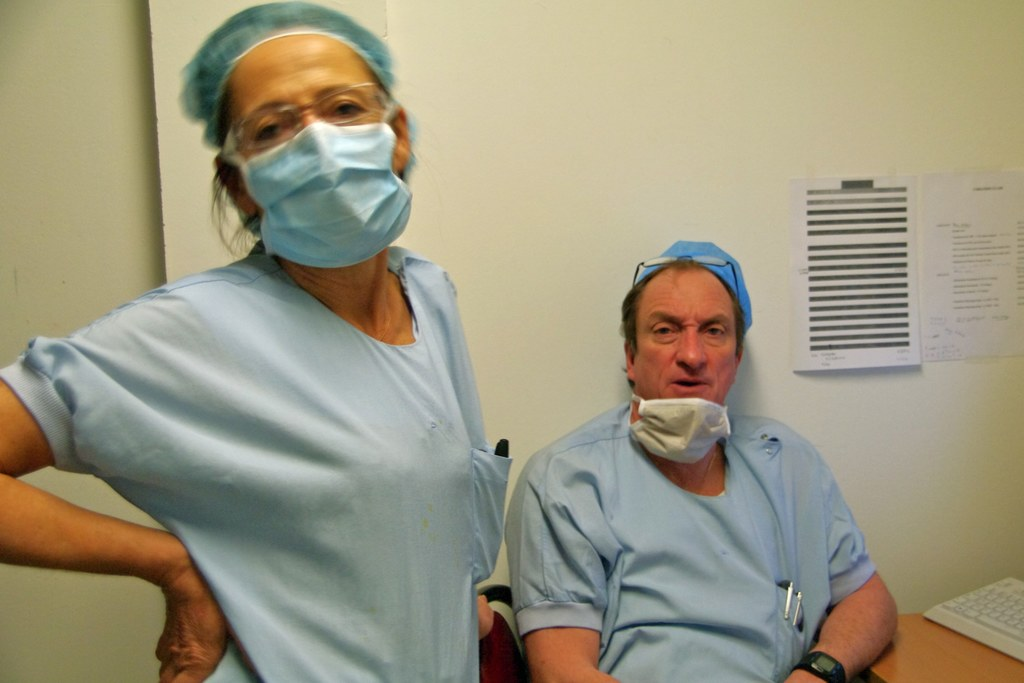Person: (0, 1, 513, 682)
